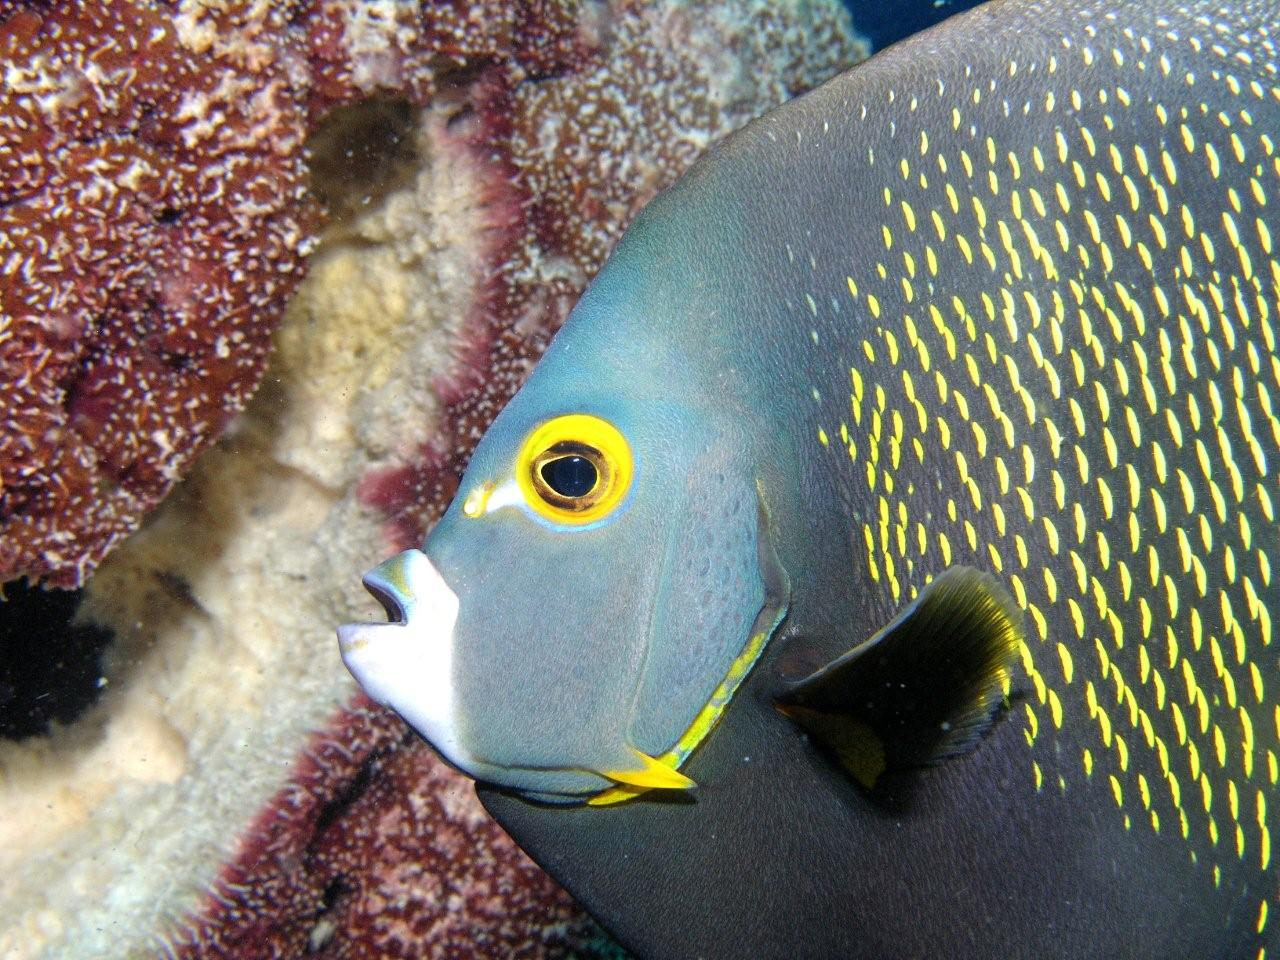Pomacanthus_paru: (299, 3, 1278, 953)
